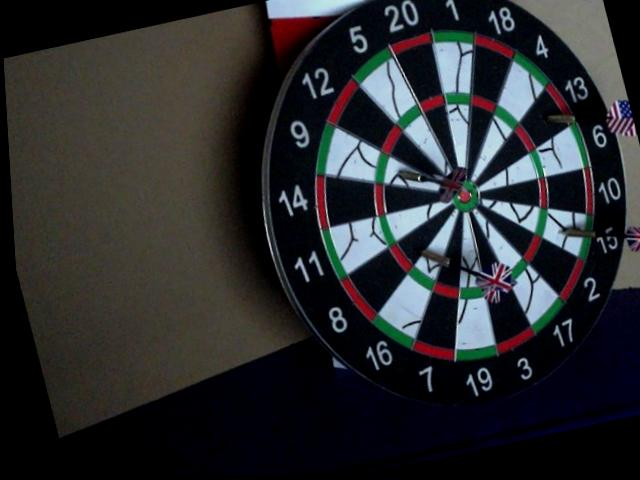single_13: (524, 92, 572, 139)
single_15: (545, 214, 580, 254)
single_8: (396, 212, 450, 260)
single_9: (384, 158, 442, 190)
